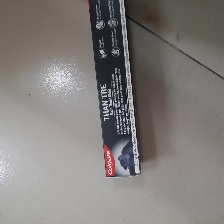Colgate Than: (87, 1, 142, 179)
